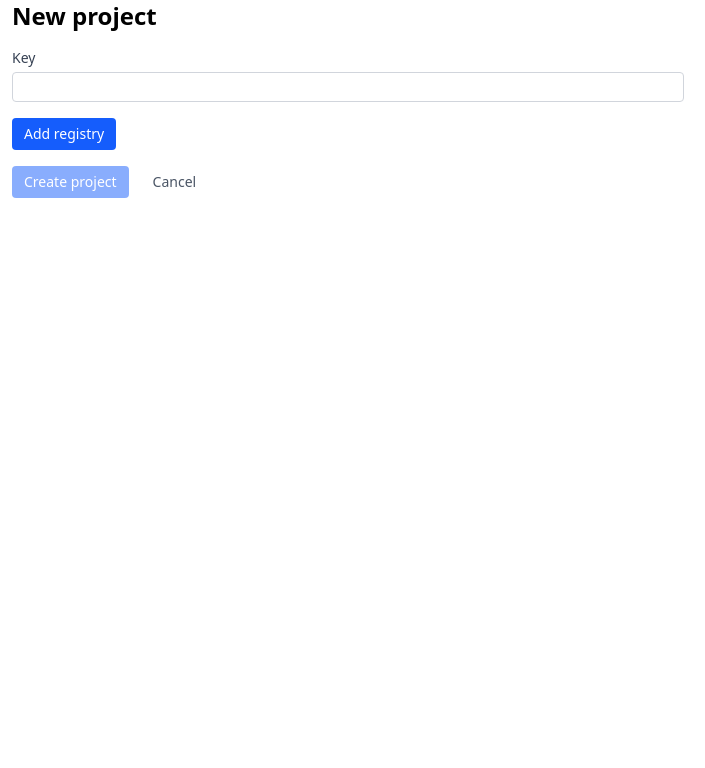
Test case: ProjectCreatePage › shows "key already exists" on a 409 conflict
Step 1. Type "my-app" into the field labelled "Key" → (348, 87), box [12,72,684,102]
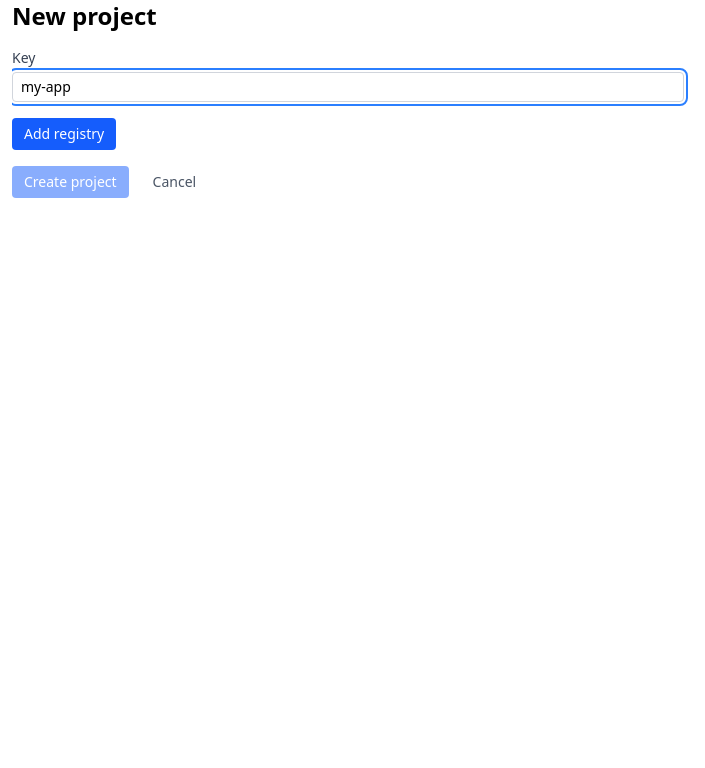
Step 2. Click the button "Add registry" → (64, 134), box [12,118,116,150]
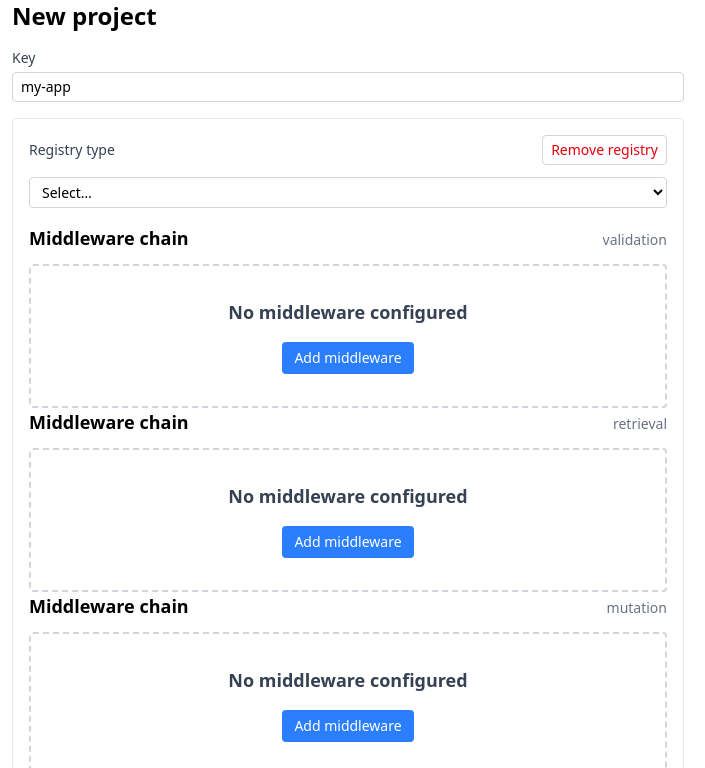
Step 3. Select "npm" in the dropdown named "Registry type" → (348, 192), box [29,177,667,208]
(page scrolled)
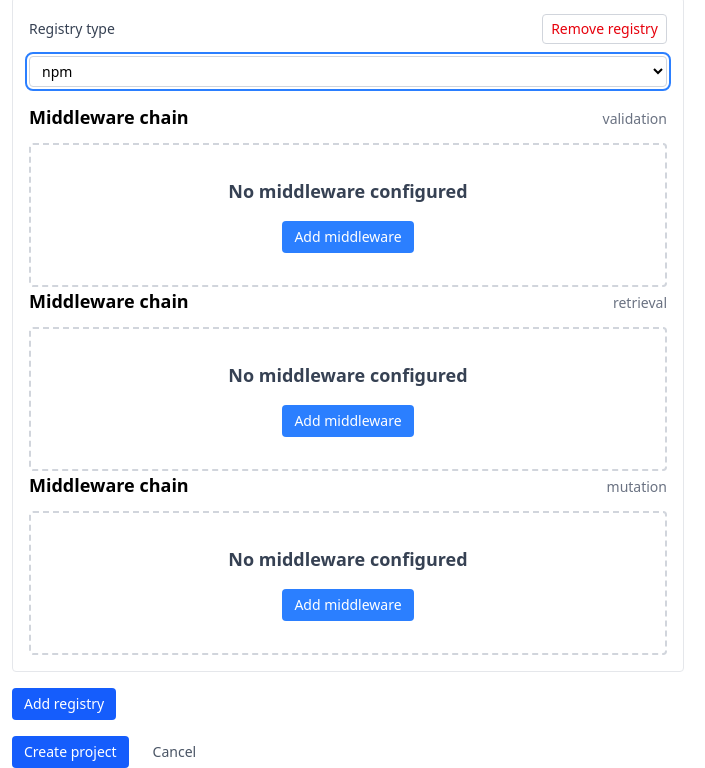
Step 4. Click the button "Create project" → (70, 752), box [12,736,129,767]
(page scrolled)
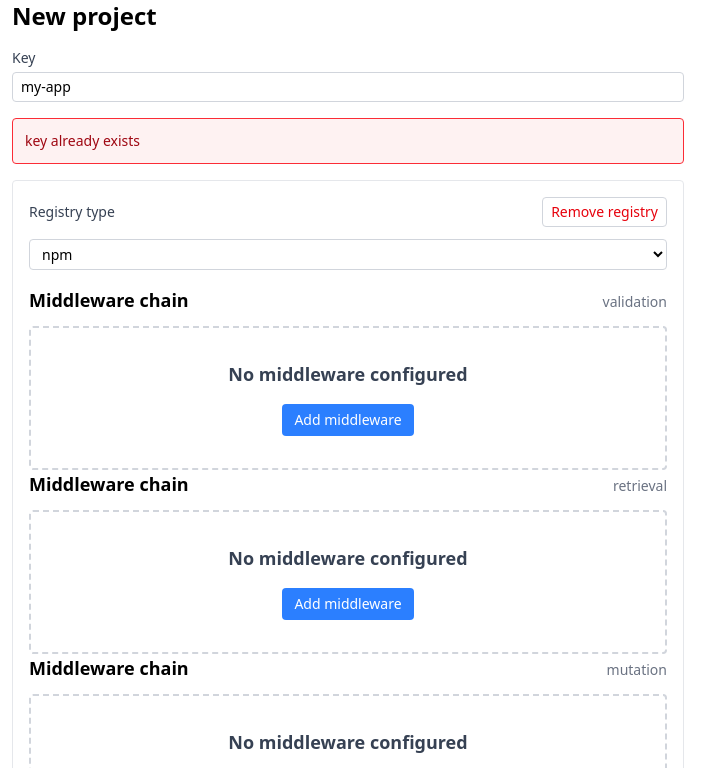
Expected: the message with test id "submit-error" reads "key already exists", [25,131,140,150]
